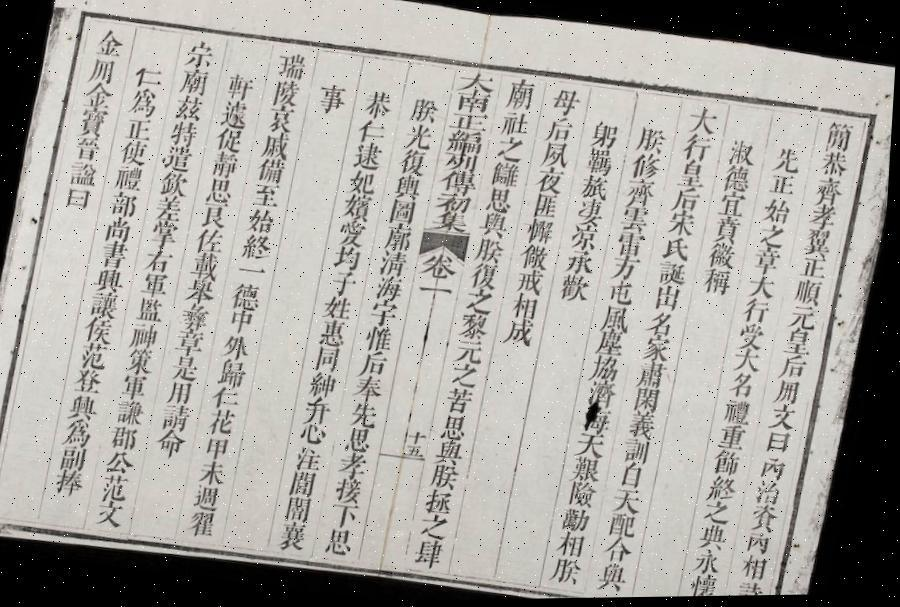c: (360, 86, 398, 122), (502, 78, 540, 114), (421, 251, 464, 282), (314, 80, 351, 116), (182, 36, 220, 71), (547, 86, 586, 120), (156, 426, 196, 459), (820, 120, 858, 154), (74, 106, 112, 140), (454, 70, 500, 98), (438, 168, 480, 198), (582, 403, 620, 436), (125, 86, 163, 119), (444, 128, 487, 157), (91, 25, 128, 58), (554, 556, 592, 588), (230, 280, 268, 312), (100, 472, 138, 504), (600, 562, 638, 594), (280, 520, 318, 552), (685, 105, 723, 137), (216, 97, 254, 129), (558, 272, 596, 304), (812, 175, 848, 208), (588, 119, 624, 152), (217, 357, 254, 389), (189, 508, 226, 540), (417, 538, 454, 570), (634, 124, 671, 156), (614, 487, 652, 518), (88, 289, 126, 320), (170, 352, 208, 383), (448, 110, 493, 136), (431, 209, 474, 236), (629, 410, 665, 442), (65, 416, 101, 448), (84, 314, 120, 346), (326, 526, 362, 558), (98, 238, 134, 270), (176, 66, 212, 98), (148, 218, 184, 250), (274, 48, 310, 80), (341, 192, 377, 224), (629, 152, 666, 183), (240, 231, 277, 262), (417, 279, 459, 306), (304, 395, 339, 427), (802, 228, 837, 260), (383, 222, 418, 254), (180, 301, 216, 332), (116, 396, 152, 427), (676, 160, 712, 191), (710, 475, 746, 506), (680, 133, 716, 164), (505, 318, 541, 349), (350, 141, 386, 172), (460, 312, 496, 343), (56, 466, 93, 496), (69, 391, 106, 421), (80, 80, 117, 110), (79, 340, 116, 370), (368, 299, 405, 329), (224, 70, 258, 102), (752, 247, 787, 278), (126, 345, 161, 376), (712, 216, 747, 247), (638, 360, 673, 391), (534, 167, 569, 198), (190, 250, 225, 281), (721, 165, 756, 196), (378, 249, 413, 280), (162, 402, 198, 432), (624, 180, 660, 210), (336, 475, 372, 505), (130, 320, 166, 350), (172, 93, 208, 123), (158, 169, 194, 199), (97, 498, 133, 528), (60, 442, 96, 472), (606, 536, 642, 566), (783, 328, 819, 358), (614, 229, 650, 259), (570, 480, 606, 510), (588, 380, 624, 410), (66, 159, 102, 189), (573, 456, 609, 486), (591, 354, 627, 384), (194, 226, 230, 256), (519, 243, 555, 273), (478, 211, 514, 241), (498, 110, 534, 140), (610, 512, 647, 541), (578, 431, 615, 460), (161, 144, 198, 173), (175, 328, 212, 357), (665, 210, 702, 239), (265, 103, 299, 134), (270, 77, 304, 108), (727, 138, 761, 169), (408, 96, 442, 127), (136, 295, 171, 325), (108, 188, 143, 218), (112, 163, 147, 193), (432, 462, 467, 492), (351, 400, 386, 430), (794, 278, 829, 308), (671, 186, 706, 216), (725, 398, 760, 428), (560, 531, 595, 561), (453, 91, 495, 116), (121, 371, 156, 401), (818, 150, 853, 180), (742, 554, 777, 584), (340, 450, 375, 480), (209, 406, 244, 436), (720, 424, 755, 454), (761, 198, 796, 228), (702, 268, 737, 298), (209, 150, 244, 180), (260, 131, 295, 161), (245, 206, 280, 236), (539, 141, 574, 171), (365, 324, 400, 354), (610, 255, 646, 284), (186, 277, 222, 306), (143, 246, 179, 275), (131, 61, 167, 90), (75, 366, 111, 395), (778, 354, 814, 383), (788, 305, 824, 334), (596, 329, 632, 358), (110, 423, 146, 452), (254, 157, 290, 186), (354, 374, 390, 403), (706, 243, 742, 272), (657, 260, 693, 289), (433, 192, 476, 216), (772, 146, 805, 177), (743, 297, 776, 328), (320, 318, 353, 349), (154, 194, 188, 224), (204, 176, 238, 206), (738, 323, 772, 353), (654, 284, 688, 314), (544, 116, 578, 146), (716, 449, 750, 479), (337, 220, 371, 250), (697, 548, 731, 578), (752, 504, 786, 534), (86, 55, 120, 85), (770, 404, 804, 434), (360, 350, 394, 380), (447, 386, 481, 416), (511, 292, 545, 322), (584, 148, 618, 178), (470, 262, 504, 292), (402, 122, 436, 152), (490, 161, 524, 191), (118, 138, 153, 167), (451, 362, 486, 391), (427, 488, 462, 517), (422, 513, 457, 542), (200, 458, 235, 487), (569, 224, 604, 253), (309, 370, 344, 399), (494, 136, 529, 165), (455, 340, 491, 368), (94, 266, 130, 294), (564, 250, 600, 278), (464, 288, 500, 316), (293, 468, 325, 499), (603, 304, 636, 334), (775, 378, 808, 408), (314, 344, 347, 374), (575, 198, 608, 228), (104, 214, 138, 243), (437, 438, 471, 467), (329, 269, 363, 298), (286, 494, 320, 523), (194, 482, 228, 511), (296, 443, 330, 472), (222, 332, 256, 361), (702, 524, 736, 553), (643, 335, 677, 364), (140, 270, 174, 299), (374, 275, 408, 304), (525, 218, 559, 247), (516, 269, 550, 298), (475, 237, 509, 266), (61, 184, 96, 212), (71, 135, 106, 163), (747, 274, 782, 302), (662, 236, 697, 264), (756, 224, 792, 251), (346, 169, 382, 196), (442, 152, 484, 175), (443, 413, 475, 443), (622, 462, 654, 492), (730, 372, 762, 402), (398, 148, 430, 178), (486, 186, 518, 216), (635, 386, 668, 415), (756, 479, 789, 508), (625, 438, 658, 467), (250, 182, 284, 210), (565, 507, 599, 535), (530, 194, 564, 222), (168, 120, 202, 148), (108, 448, 142, 476), (706, 500, 740, 528), (122, 114, 156, 142), (768, 172, 802, 200), (766, 429, 800, 457), (808, 204, 842, 232), (607, 280, 641, 308), (214, 126, 248, 154), (333, 244, 367, 272), (355, 118, 390, 145), (620, 206, 655, 233), (347, 426, 379, 455), (648, 310, 680, 339), (762, 455, 794, 484), (388, 198, 420, 227), (199, 202, 232, 230), (717, 192, 750, 220), (168, 378, 201, 406), (333, 502, 367, 529), (734, 348, 768, 375), (324, 295, 358, 322), (580, 175, 614, 202), (691, 574, 729, 598), (213, 384, 248, 410), (798, 257, 833, 283), (393, 174, 425, 202), (748, 531, 780, 558), (206, 432, 238, 459), (300, 422, 335, 446), (228, 308, 260, 334), (236, 261, 272, 281), (738, 580, 774, 598), (410, 428, 434, 448), (408, 443, 430, 460)
